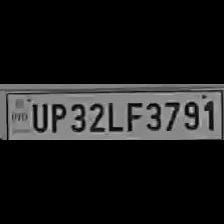1: (200, 98, 218, 132)
2: (86, 99, 106, 133)
3: (66, 99, 86, 133), (142, 98, 162, 132)
7: (161, 97, 179, 132)
9: (180, 98, 200, 132)
F: (122, 98, 142, 132)
L: (104, 98, 122, 132)
P: (47, 99, 66, 133)
U: (27, 100, 47, 132)
